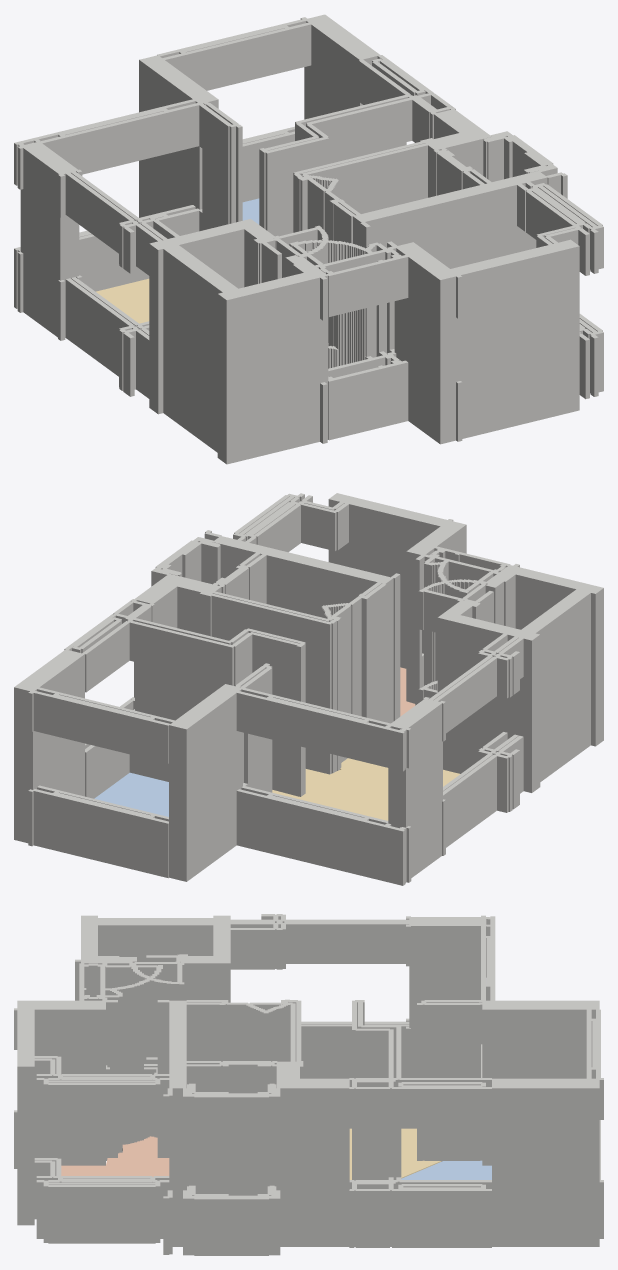
3 views of the same model, one above another, from view 1: azimuth 30°, elevation 25°; view 2: azimuth 150°, elevation 25°; view 3: azimuth 270°, elevation 25° (orthographic). The views are drawn at different scales.
Visible parts, largest first — view 1: walls, room:living:5; view 2: walls, room:living:5, room:bedroom:6; view 3: walls, room:kitchen:0, room:bedroom:6, room:living:5.
Part boxes in pixels (x1,y1,x2,y2): walls: [14, 14, 603, 464]; room:living:5: [96, 278, 149, 323]; walls: [14, 493, 603, 885]; room:living:5: [272, 758, 460, 820]; room:bedroom:6: [94, 772, 168, 816]; walls: [14, 914, 603, 1255]; room:kitchen:0: [61, 1136, 169, 1176]; room:bedroom:6: [401, 1160, 491, 1179]; room:living:5: [349, 1128, 441, 1179].
Bounding box in the file's own units: 6.93 × 2.8 × 9.43.
